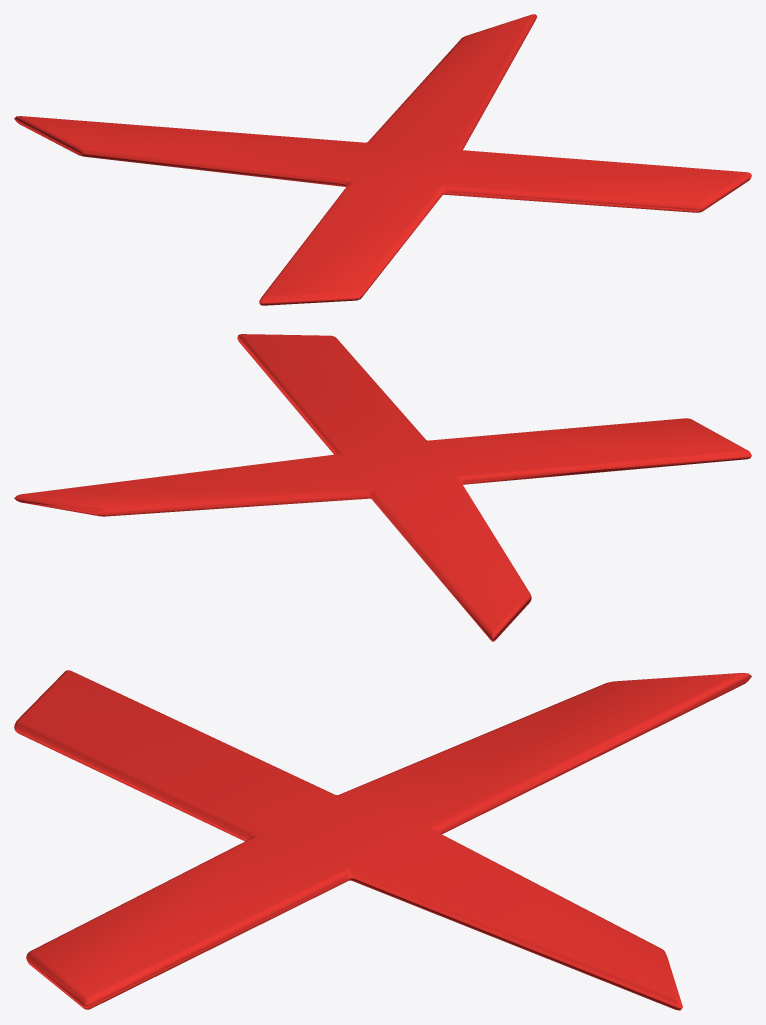
The model's file is crosshair.fbx.
3 renders of one model, top to bottom at view 1: azimuth 30°, elevation 25°; view 2: azimuth 150°, elevation 25°; view 3: azimuth 270°, elevation 25°, orthographic. The views are drawn at different scales.
Parts seen in each view (by area): view 1: Crosshair; view 2: Crosshair; view 3: Crosshair.
Boxes of the visible parts, bbox=[...] form: Crosshair: bbox=[14, 14, 751, 305]; Crosshair: bbox=[14, 334, 751, 641]; Crosshair: bbox=[14, 670, 751, 1010].
Bounding box in the file's own units: 285 × 5 × 265.
